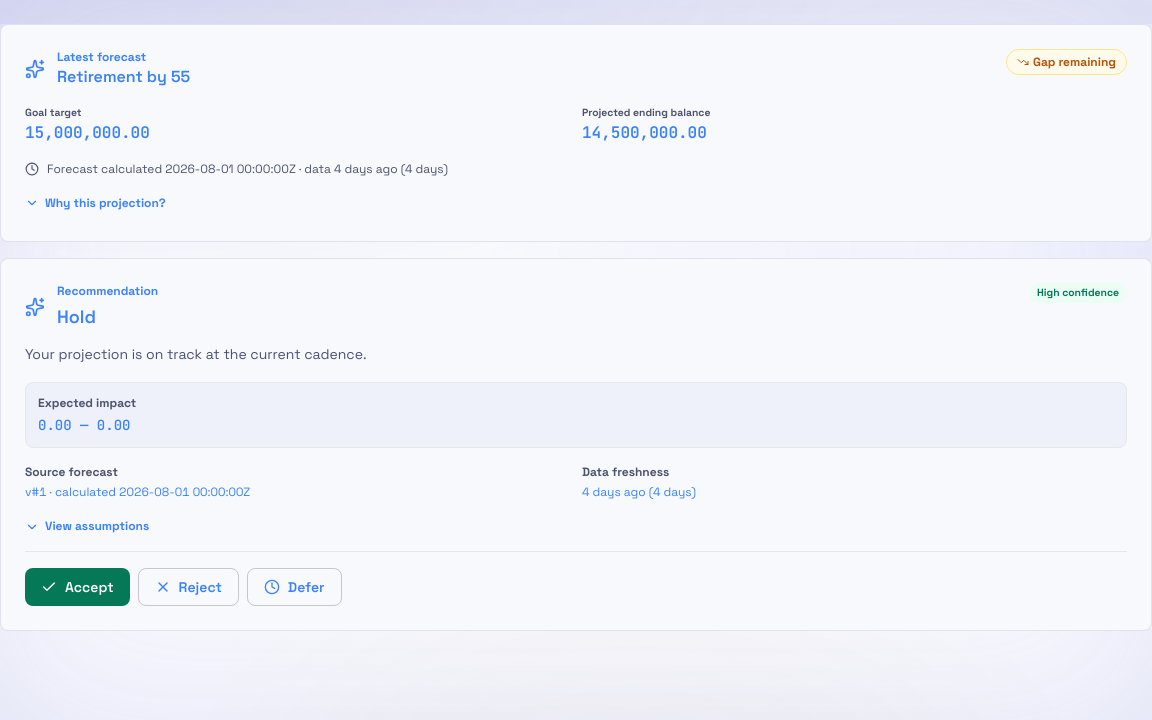
it: <LatestForecastSection /> — per-goal isolation (matrix item 13) › retries an ambiguous decision response with the same idempotency key
Expected: the element with test id "recommendation-explained-card-forecast-uuid-goal-1" is shown, [0,258,1151,631]
Step 1. Click the button with test id "rec-accept" → click(77, 587), box [25,568,130,606]
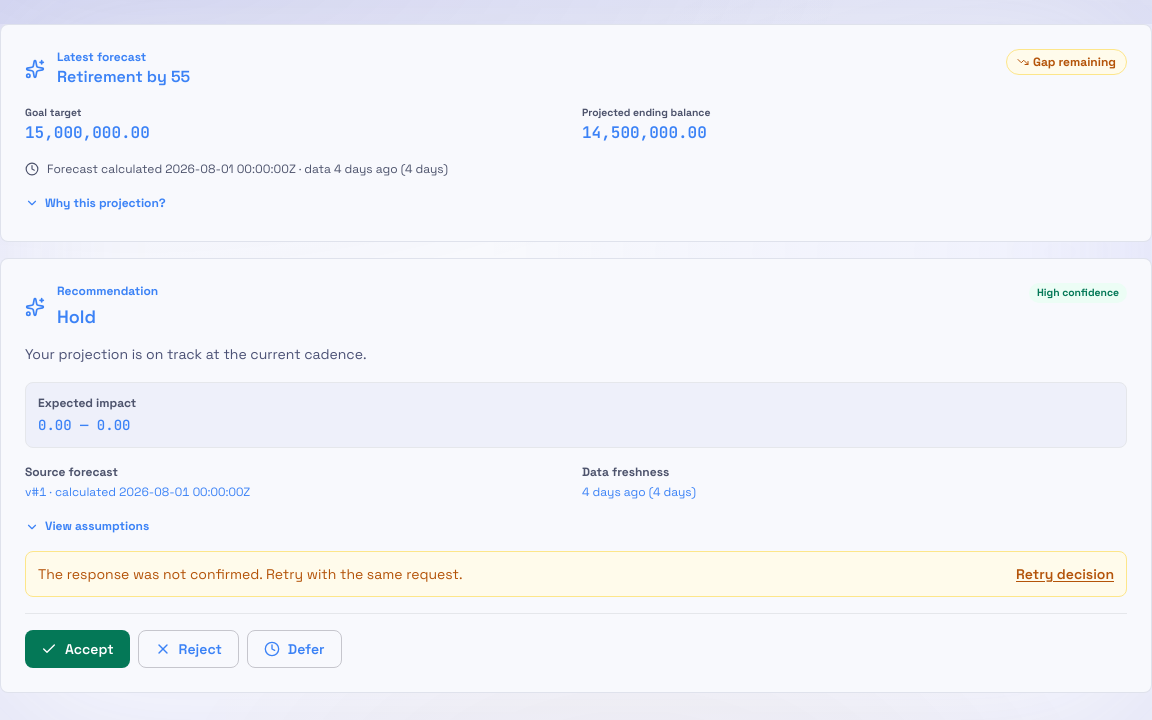
Now the message "The response was not confirmed. Retry with the same request. Retry decision" is shown, box [25,551,1127,597]
Step 2. Click the button with test id "decision-retry" → click(1065, 574), box [1016,564,1114,584]
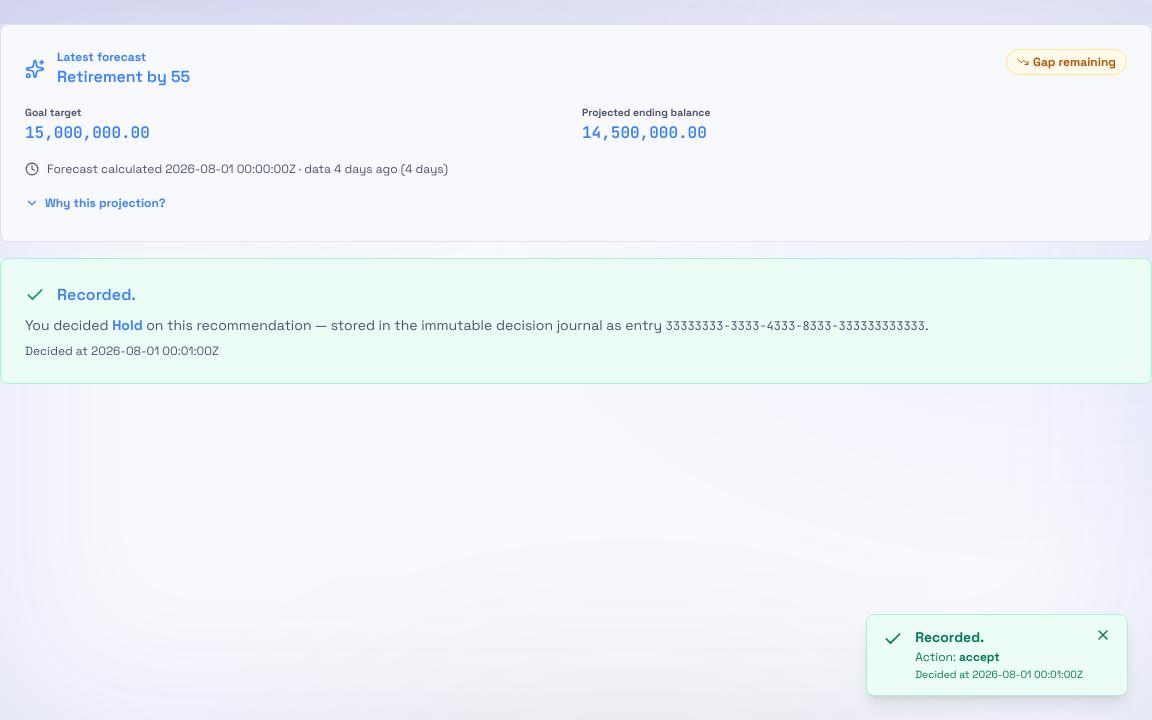
Now the text "33333333-3333-4333-8333-333333333333" is shown, box [666,318,925,334]
